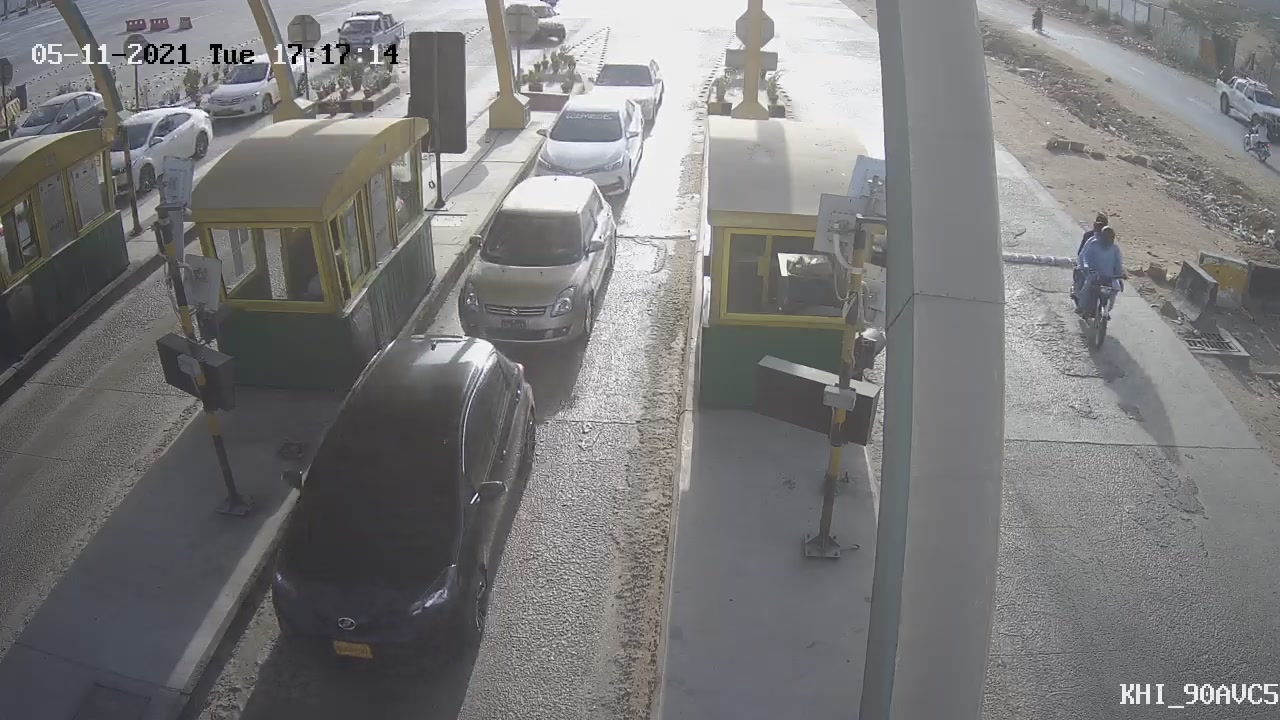F1: (443, 164, 637, 372), (518, 85, 664, 220)
